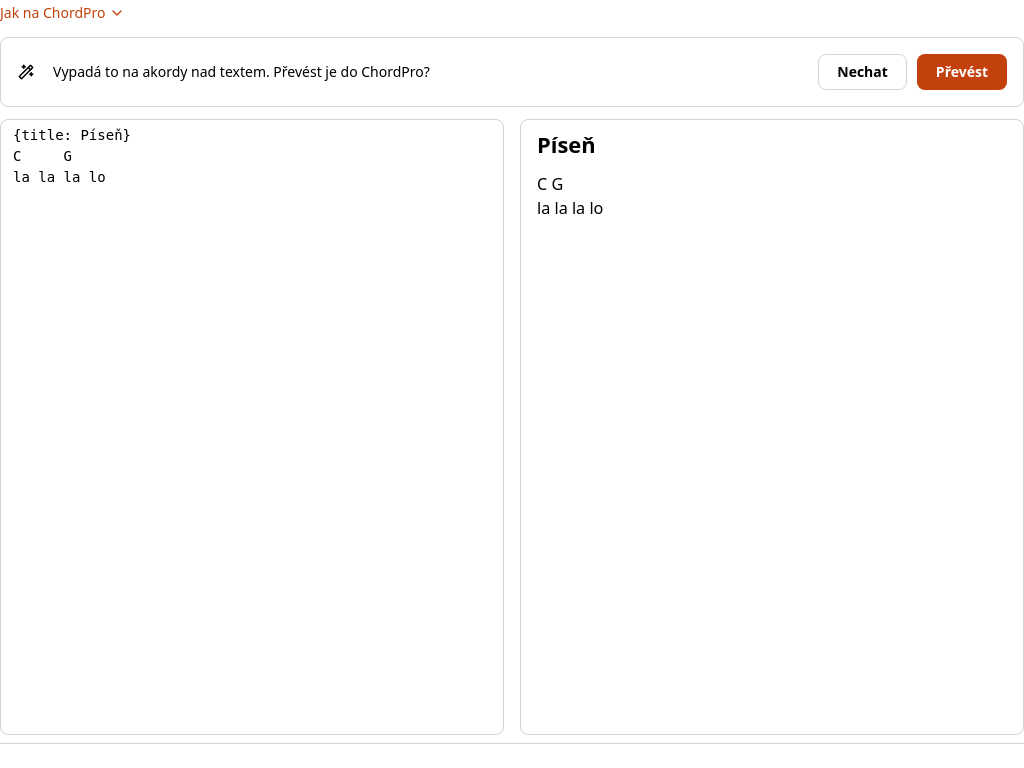
it: ChordProEditor › leaves the text alone when told to
Click the button "Nechat" at coordinates (863, 72), box [818, 54, 907, 90]
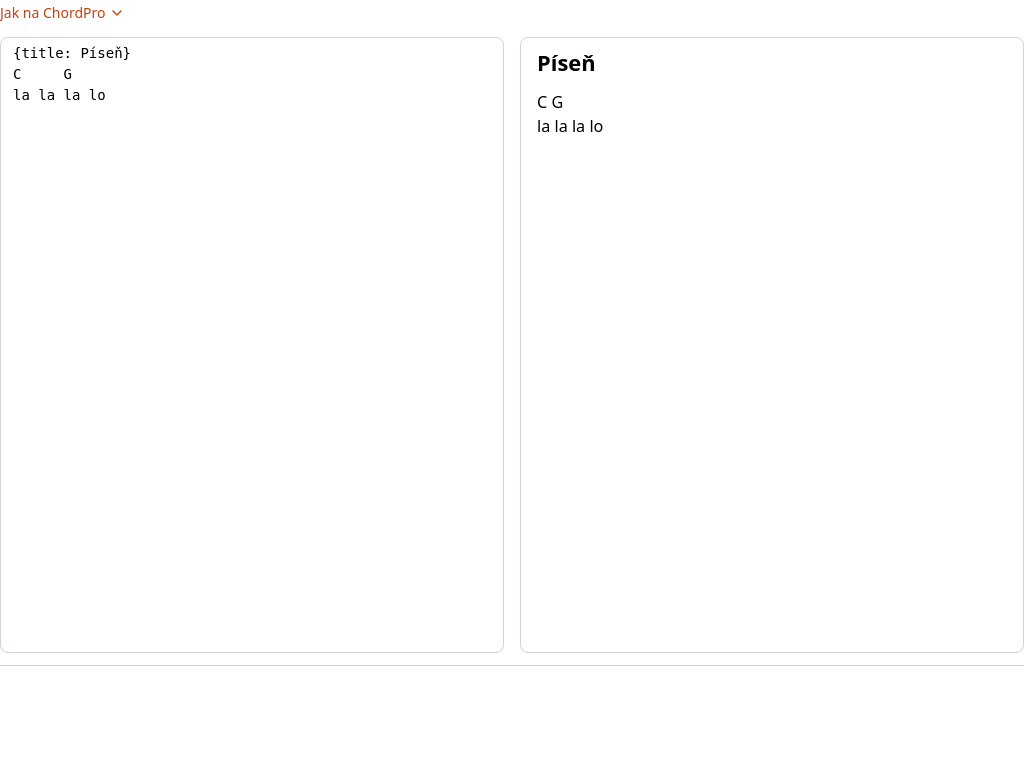
Expected: the text "Převést" is gone
